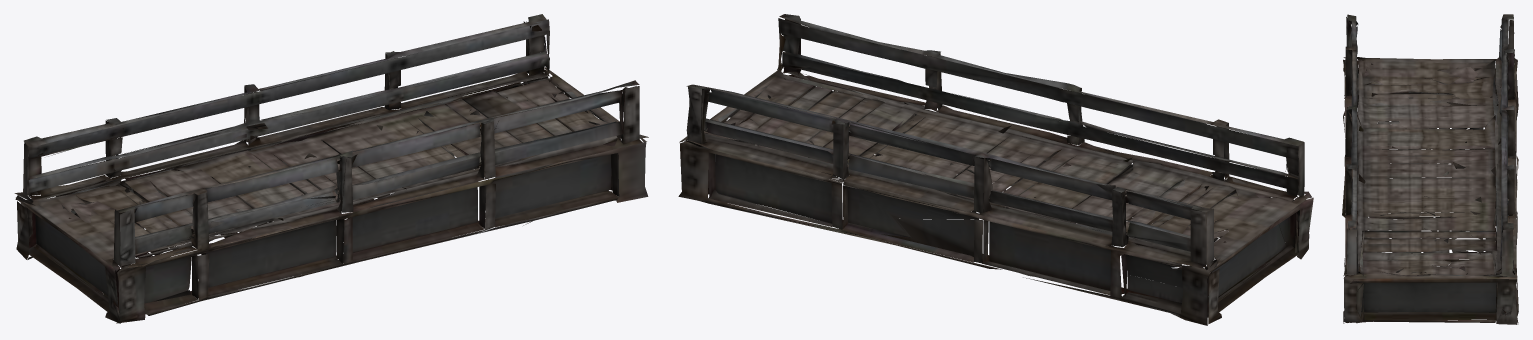
File: jahrmarkt_bruecke.glb
3 renders of one model, left to right at view 1: azimuth 30°, elevation 25°; view 2: azimuth 150°, elevation 25°; view 3: azimuth 270°, elevation 25°, orthographic. The views are drawn at different scales.
Parts seen in each view (by area): view 1: Prop; view 2: Prop; view 3: Prop.
Boxes of the visible parts, x1=… form: Prop: x1=14, y1=14, x2=648, y2=323; Prop: x1=678, y1=14, x2=1313, y2=325; Prop: x1=1342, y1=14, x2=1518, y2=324.
Size of the model in its own units: 4.97 by 1.06 by 1.68.
Materials: 1 (1 with a texture image).
